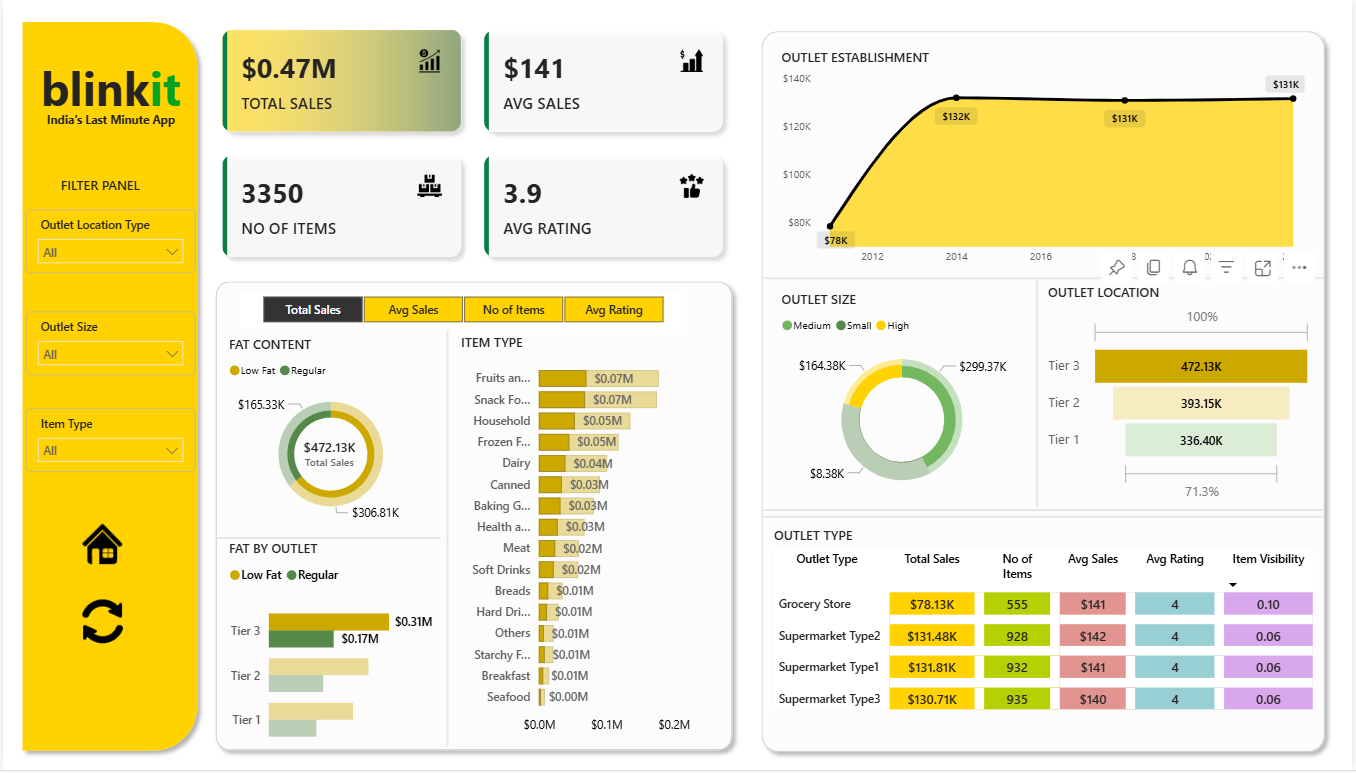

What the dashboard file says about the page in this screenshot:
{"tool":"powerbi","page":{"name":"BLINKIT","canvas":[1400,800],"ordinal":0},"visuals":[{"type":"shape","box":[11.6,13.2,199.9,774.7],"z":0},{"type":"textbox","box":[24.2,52.3,174.5,76.5],"z":1000},{"type":"textbox","box":[24.2,108.7,174.5,76.5],"z":2000},{"type":"cardVisual","fields":{"Data":["BlinkIT Grocery Data.Total Sales","BlinkIT Grocery Data.Avg Sales","BlinkIT Grocery Data.No of Items","BlinkIT Grocery Data.Avg Rating"]},"box":[210.9,13.8,555.5,270.2],"z":3000},{"type":"shape","box":[212.3,284,554.2,504.5],"z":4000},{"type":"donutChart","title":"FAT CONTENT","fields":{"Y":["BlinkIT Grocery Data.Total Sales"],"Category":["BlinkIT Grocery Data.Item Fat Content"]},"box":[230.2,347.4,220.5,202.6],"z":5000},{"type":"slicer","fields":{"Values":["Metrics.Metrics"]},"box":[245.4,301.9,464.6,40],"z":6000},{"type":"cardVisual","fields":{"Data":["BlinkIT Grocery Data.Total Sales"]},"box":[277.1,414.9,125.4,111.7],"z":7000},{"type":"clusteredBarChart","title":"FAT BY OUTLET","fields":{"Y":["BlinkIT Grocery Data.Total Sales"],"Category":["BlinkIT Grocery Data.Outlet Location Type"],"Series":["BlinkIT Grocery Data.Item Fat Content"]},"box":[230.2,559.7,220.6,230.2],"z":8000},{"type":"shape","box":[221.9,544.5,233,27.6],"z":9000},{"type":"shape","box":[454.9,343.3,12.4,431.5],"z":10000},{"type":"barChart","title":"ITEM TYPE","fields":{"Y":["BlinkIT Grocery Data.Total Sales"],"Category":["BlinkIT Grocery Data.Item Type"]},"box":[467.3,341.9,278.5,431.5],"z":11000},{"type":"shape","box":[778.4,22.8,602.6,766.3],"z":12000},{"type":"lineChart","title":"OUTLET ESTABLISHMENT","fields":{"Category":["BlinkIT Grocery Data.Outlet Establishment Year"],"Y":["BlinkIT Grocery Data.Total Sales"]},"box":[803.7,49.6,552.8,234.3],"z":13000},{"type":"shape","box":[789.9,284,581.7,11],"z":14000},{"type":"donutChart","title":"OUTLET SIZE","fields":{"Y":["BlinkIT Grocery Data.Total Sales"],"Category":["BlinkIT Grocery Data.Outlet Size"]},"box":[803.7,301.9,259.2,224.7],"z":15000},{"type":"shape","box":[1067,289.5,12.4,237.1],"z":16000},{"type":"funnel","title":"OUTLET LOCATION","fields":{"Y":["Sum(BlinkIT Grocery Data.Sales)"],"Category":["BlinkIT Grocery Data.Outlet Location Type"]},"box":[1079.4,295,284,230.2],"z":17000},{"type":"shape","box":[788.5,523.8,581.7,11],"z":18000},{"type":"pivotTable","title":"OUTLET TYPE","fields":{"Values":["BlinkIT Grocery Data.Total Sales","BlinkIT Grocery Data.No of Items","BlinkIT Grocery Data.Avg Sales","BlinkIT Grocery Data.Avg Rating","Avg(BlinkIT Grocery Data.Item Visibility)"],"Rows":["BlinkIT Grocery Data.Outlet Type"]},"box":[794,544.5,573.5,228.8],"z":19000},{"type":"shape","box":[788.5,530.7,581.7,11],"z":20000},{"type":"slicer","fields":{"Values":["BlinkIT Grocery Data.Outlet Location Type"]},"box":[23.4,217.8,176.5,66.2],"z":21000},{"type":"slicer","fields":{"Values":["BlinkIT Grocery Data.Outlet Size"]},"box":[23.4,322.6,176.5,66.2],"z":22000},{"type":"slicer","fields":{"Values":["BlinkIT Grocery Data.Item Type"]},"box":[23.4,423.2,176.4,66.2],"z":23000},{"type":"textbox","box":[55.1,177.8,111.6,27.6],"z":23001},{"type":"image","box":[76.5,616,52.3,59],"z":23002},{"type":"image","box":[63.1,527.4,77.8,75.2],"z":23003}]}

Visuals, with their boxes in screenshot pixels (x1, y1, x2, y2), scaled from the page's 1400x800 canvas onto the 1356x773 screenshot:
shape: 11, 13, 205, 761
textbox: 23, 51, 192, 124
textbox: 23, 105, 192, 179
cardVisual - BlinkIT Grocery Data.Total Sales x BlinkIT Grocery Data.Avg Sales: 204, 13, 742, 274
shape: 206, 274, 742, 762
"FAT CONTENT" donutChart: 223, 336, 437, 531
slicer - Metrics.Metrics: 238, 292, 688, 330
cardVisual - BlinkIT Grocery Data.Total Sales: 268, 401, 390, 509
"FAT BY OUTLET" clusteredBarChart: 223, 541, 437, 763
shape: 215, 526, 441, 553
shape: 441, 332, 453, 749
"ITEM TYPE" barChart: 453, 330, 722, 747
shape: 754, 22, 1338, 762
"OUTLET ESTABLISHMENT" lineChart: 778, 48, 1314, 274
shape: 765, 274, 1328, 285
"OUTLET SIZE" donutChart: 778, 292, 1029, 509
shape: 1033, 280, 1045, 509
"OUTLET LOCATION" funnel: 1045, 285, 1321, 507
shape: 764, 506, 1327, 517
"OUTLET TYPE" pivotTable: 769, 526, 1325, 747
shape: 764, 513, 1327, 523
slicer - BlinkIT Grocery Data.Outlet Location Type: 23, 210, 194, 274
slicer - BlinkIT Grocery Data.Outlet Size: 23, 312, 194, 376
slicer - BlinkIT Grocery Data.Item Type: 23, 409, 194, 473
textbox: 53, 172, 161, 198
image: 74, 595, 125, 652
image: 61, 510, 136, 582
